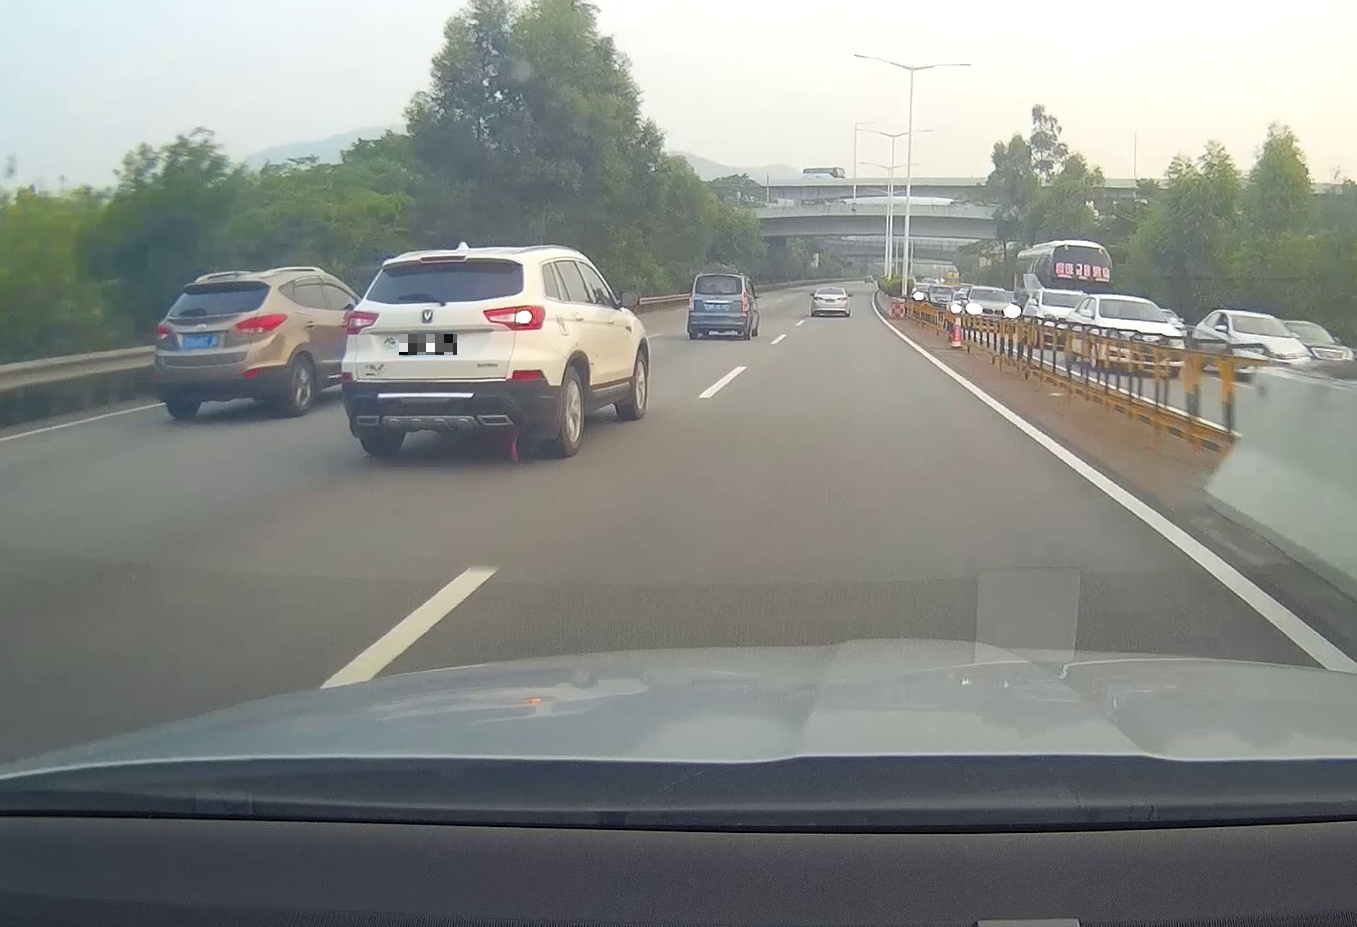L_light: (345, 310, 380, 335), (155, 323, 171, 341), (689, 296, 694, 311), (814, 296, 823, 300)
R_light: (483, 304, 545, 331), (236, 313, 289, 333), (742, 294, 749, 312), (838, 297, 847, 300)
T_light: (419, 255, 466, 262), (211, 282, 234, 287), (711, 290, 723, 293), (828, 289, 834, 291)
day-no: (150, 272, 293, 418), (688, 272, 750, 339), (810, 287, 849, 316)
day-right: (341, 249, 554, 459)
plate_1: (399, 334, 457, 355)
